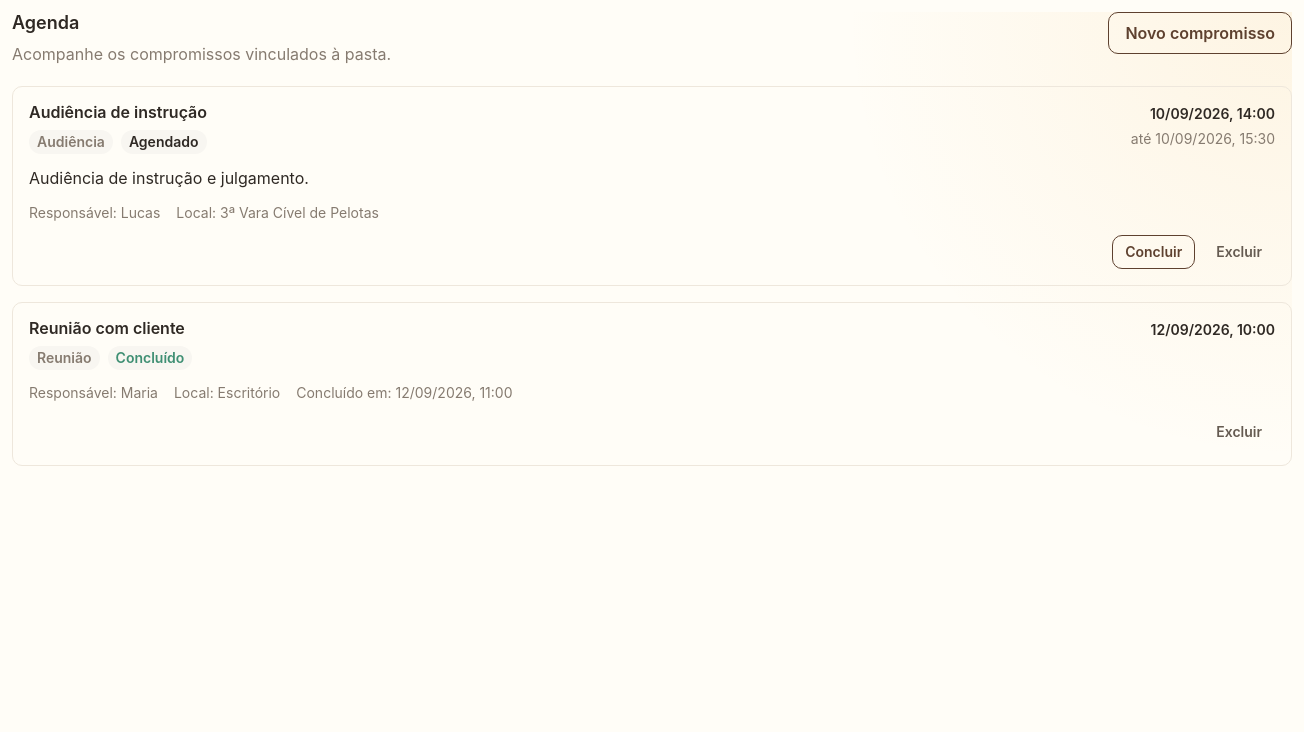
Test case: FolderEvents › exibe erro quando conclusão do compromisso falha
The width and height of the screenshot is (1304, 732).
Click the button "Concluir" at coordinates (1154, 252), box [1112,235,1195,269]
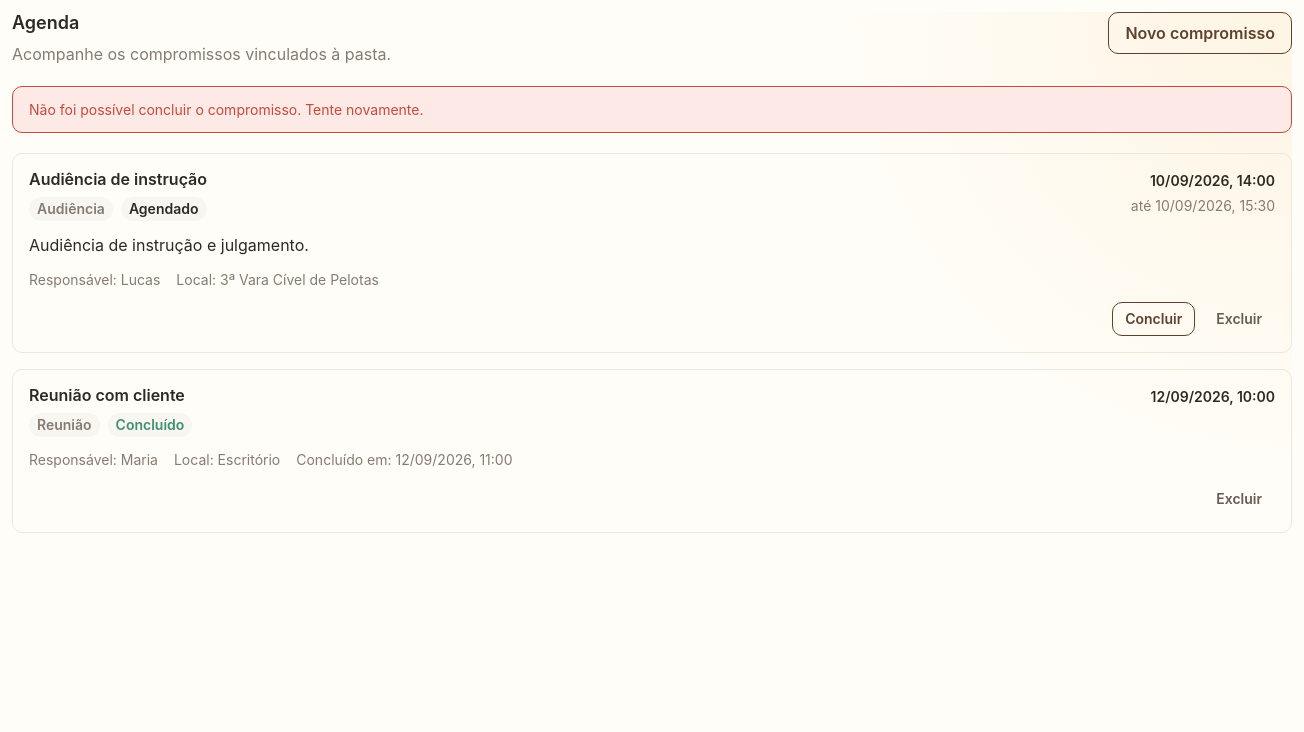
Expected: the text "Não foi possível concluir o compromisso. Tente novamente." is shown, [12,86,1292,133]
